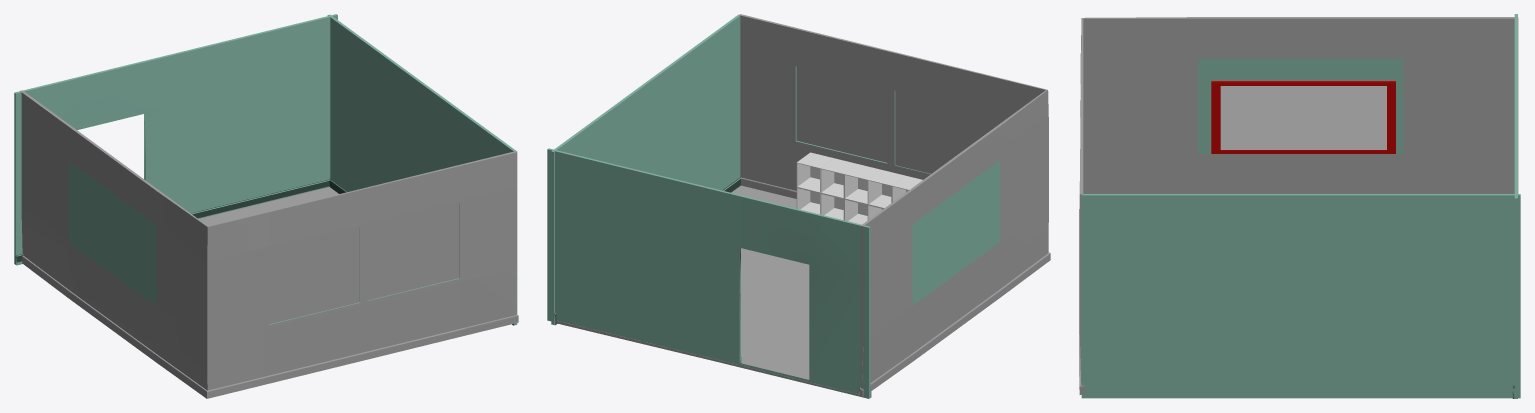
File: classroom color.fbx
3 views of the same model, side by side, from view 1: azimuth 30°, elevation 25°; view 2: azimuth 150°, elevation 25°; view 3: azimuth 270°, elevation 25° (orthographic). The views are drawn at different scales.
Parts seen in each view (by area): view 1: polySurface2; view 2: polySurface2; view 3: polySurface2.
Part boxes in pixels (bbox=[...]): polySurface2: bbox=[14, 14, 518, 398]; polySurface2: bbox=[547, 14, 1050, 398]; polySurface2: bbox=[1079, 14, 1520, 398].
Bounding box in the file's own units: 23.74 × 12.21 × 24.03.
